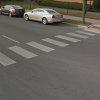Crosswalk: (3, 27, 100, 75)
